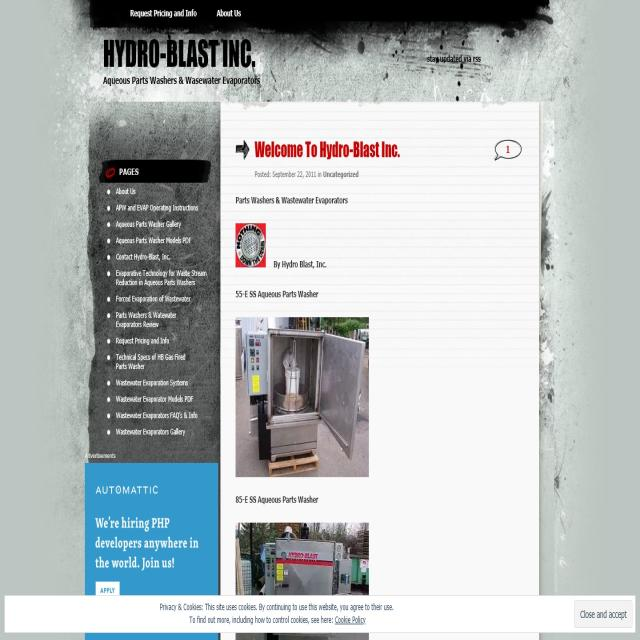button: (125, 3, 203, 27), (575, 598, 633, 630), (213, 4, 246, 22), (95, 583, 118, 598)
heading: (100, 32, 256, 72), (252, 137, 402, 161), (233, 193, 349, 208), (93, 480, 164, 500), (116, 163, 145, 180)
iframe: (5, 593, 634, 633)
image: (235, 319, 369, 478), (237, 521, 369, 640)
text: (92, 509, 205, 574), (100, 73, 262, 92), (115, 266, 211, 288), (115, 307, 182, 330), (234, 492, 324, 509), (116, 349, 187, 368), (115, 290, 199, 306), (234, 286, 321, 301), (114, 406, 201, 421), (115, 424, 191, 440), (114, 202, 202, 214), (114, 391, 195, 404), (114, 217, 188, 230), (115, 234, 194, 246), (426, 53, 483, 68), (114, 377, 191, 388), (115, 249, 173, 261), (114, 336, 180, 346), (274, 261, 329, 270), (112, 185, 139, 197)
